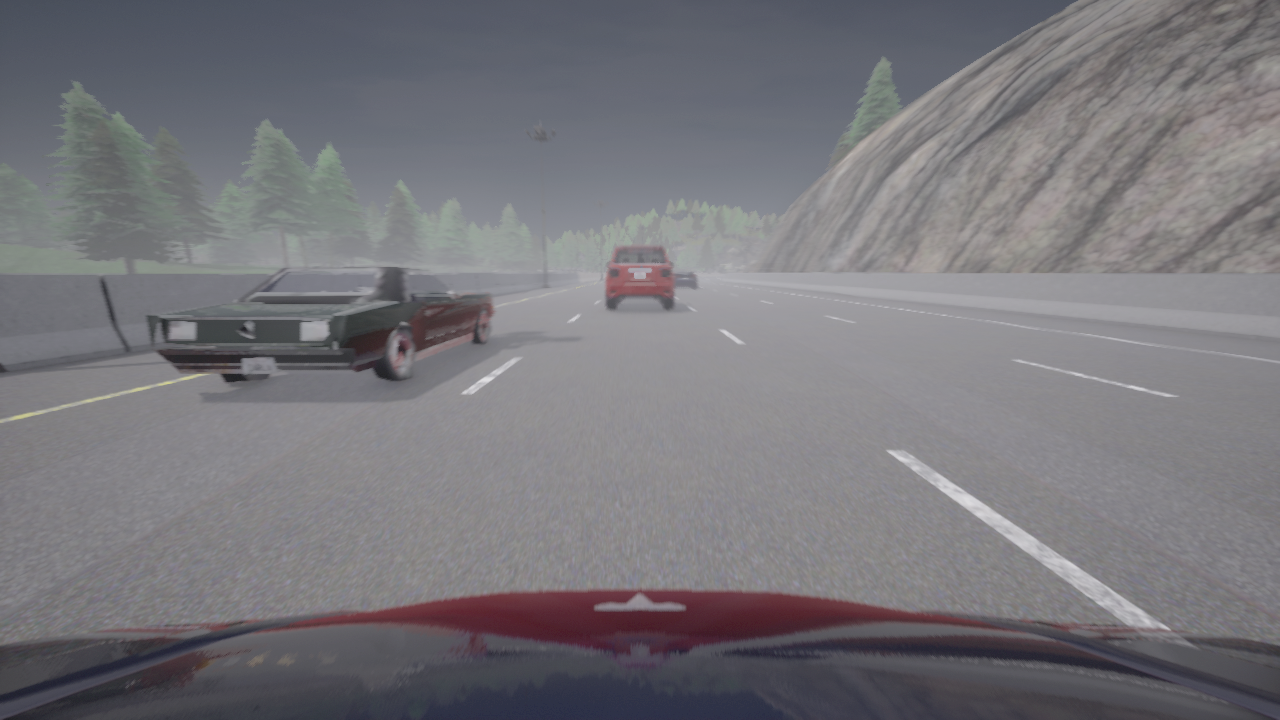cyclist: (0, 588, 1279, 719), (145, 265, 494, 382), (606, 245, 673, 309), (673, 269, 696, 287), (621, 297, 658, 298)
